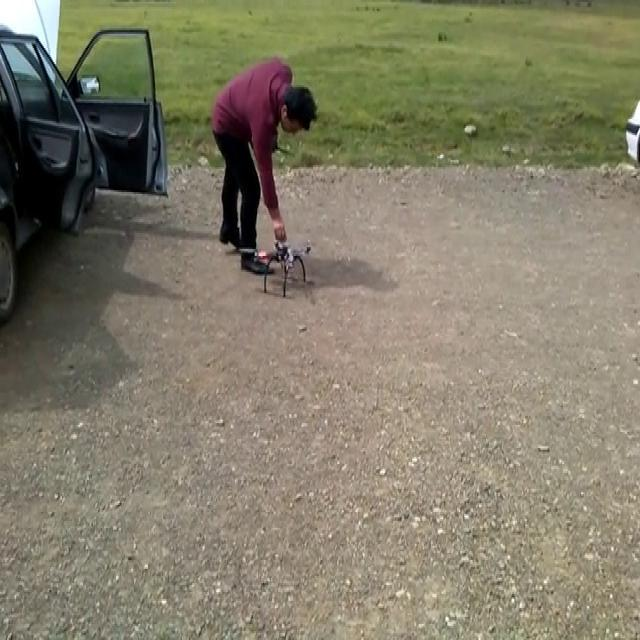drone: (240, 235, 313, 295)
